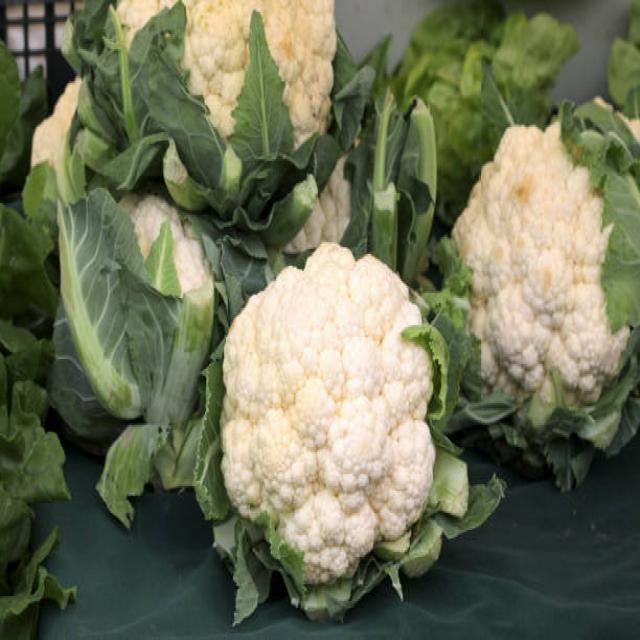Cauliflower head: (209, 226, 457, 619), (458, 56, 640, 485), (77, 0, 351, 189)
